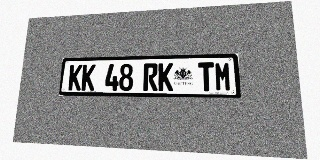4: (105, 64, 120, 91)
8: (119, 64, 134, 91)
K: (158, 63, 173, 91), (81, 64, 96, 91), (68, 65, 83, 90)
M: (214, 62, 232, 91)
R: (143, 63, 158, 91)
T: (198, 62, 215, 91)
